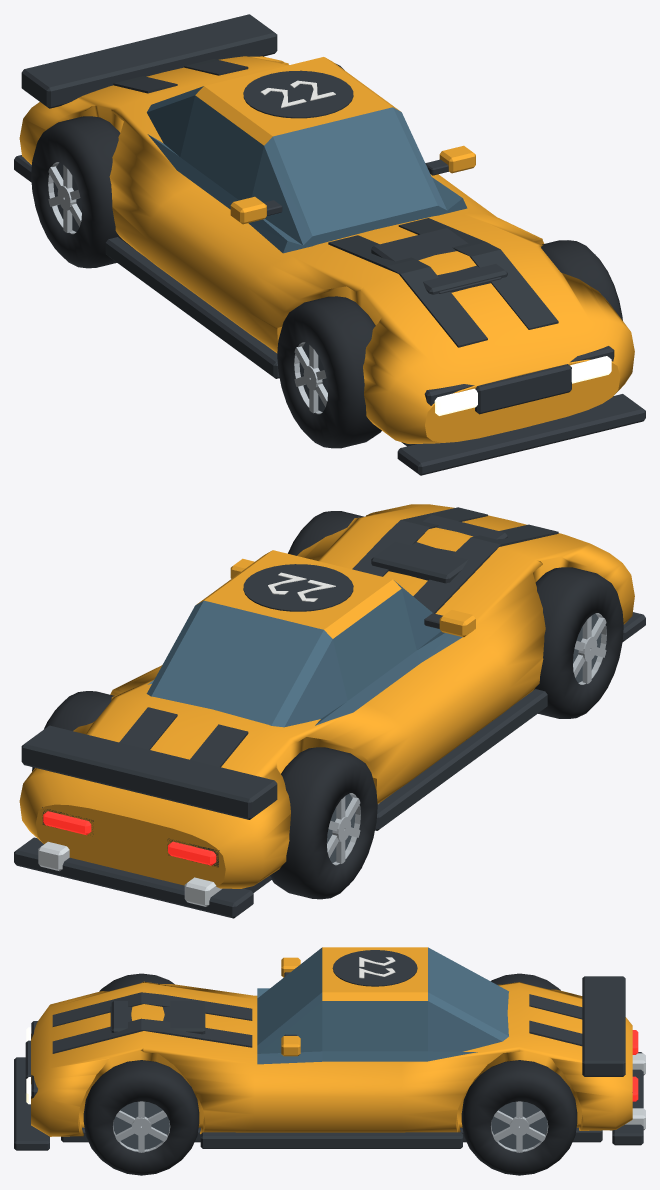
File: r2-car-muscle.glb
The picture shows the model from 3 angles, top to bottom: view 1: azimuth 30°, elevation 25°; view 2: azimuth 150°, elevation 25°; view 3: azimuth 270°, elevation 25°; orthographic projection. The views are drawn at different scales.
Parts seen in each view (by area): view 1: r2-car-muscle-moulded-body, r2-car-muscle-greenhouse, wheel-front-left, wheel-rear-left, r2-car-muscle-rear-ducktail, r2-car-muscle-front-splitter, r2-car-muscle-side-sill--1, r2-car-muscle-hood-stripe-0, r2-car-muscle-roof-number-roundel, r2-car-muscle-hood-stripe-1, r2-car-muscle-hood-scoop, r2-car-muscle-grille (+6 smaller); view 2: r2-car-muscle-moulded-body, r2-car-muscle-greenhouse, wheel-rear-left, r2-car-muscle-rear-ducktail, wheel-front-left, r2-car-muscle-rear-diffuser, r2-car-muscle-side-sill--1, r2-car-muscle-roof-number-roundel, r2-car-muscle-hood-scoop, r2-car-muscle-hood-stripe-0, r2-car-muscle-hood-stripe-1, wheel-rear-right (+9 smaller); view 3: r2-car-muscle-moulded-body, r2-car-muscle-greenhouse, wheel-front-right, wheel-rear-right, r2-car-muscle-side-sill-1, r2-car-muscle-rear-ducktail, r2-car-muscle-hood-stripe-1, r2-car-muscle-roof-number-roundel, r2-car-muscle-hood-stripe-0, r2-car-muscle-hood-scoop, r2-car-muscle-front-splitter, r2-car-muscle-rear-diffuser (+7 smaller).
Part boxes in pixels (<box>): r2-car-muscle-moulded-body: <box>19,56,634,443</box>; r2-car-muscle-greenhouse: <box>147,57,467,253</box>; wheel-front-left: <box>277,296,381,448</box>; wheel-rear-left: <box>31,116,133,268</box>; r2-car-muscle-rear-ducktail: <box>21,14,277,108</box>; r2-car-muscle-front-splitter: <box>397,394,645,475</box>; r2-car-muscle-side-sill--1: <box>105,237,279,378</box>; r2-car-muscle-hood-stripe-0: <box>328,235,487,347</box>; r2-car-muscle-roof-number-roundel: <box>243,70,353,118</box>; r2-car-muscle-hood-stripe-1: <box>398,218,558,329</box>; r2-car-muscle-hood-scoop: <box>371,228,507,294</box>; r2-car-muscle-grille: <box>475,364,571,414</box>; r2-car-muscle-moulded-body: <box>19,504,634,888</box>; r2-car-muscle-greenhouse: <box>146,550,462,727</box>; wheel-rear-left: <box>270,747,377,899</box>; r2-car-muscle-rear-ducktail: <box>21,725,277,819</box>; wheel-front-left: <box>534,567,623,718</box>; r2-car-muscle-rear-diffuser: <box>14,837,253,918</box>; r2-car-muscle-side-sill--1: <box>375,689,547,830</box>; r2-car-muscle-roof-number-roundel: <box>243,564,353,611</box>; r2-car-muscle-hood-scoop: <box>371,515,507,583</box>; r2-car-muscle-hood-stripe-0: <box>413,524,558,613</box>; r2-car-muscle-hood-stripe-1: <box>352,507,487,576</box>; wheel-rear-right: <box>32,691,114,771</box>; r2-car-muscle-moulded-body: <box>31,981,632,1136</box>; r2-car-muscle-greenhouse: <box>257,947,508,1064</box>; wheel-front-right: <box>83,1060,199,1175</box>; wheel-rear-right: <box>461,1060,577,1175</box>; r2-car-muscle-side-sill-1: <box>200,1132,462,1148</box>; r2-car-muscle-rear-ducktail: <box>582,976,625,1076</box>; r2-car-muscle-hood-stripe-1: <box>52,1018,252,1053</box>; r2-car-muscle-roof-number-roundel: <box>332,950,417,986</box>; r2-car-muscle-hood-stripe-0: <box>52,992,252,1026</box>; r2-car-muscle-hood-scoop: <box>111,1001,205,1034</box>; r2-car-muscle-front-splitter: <box>14,1057,49,1150</box>; r2-car-muscle-rear-diffuser: <box>612,1052,643,1145</box>.
Size of the model in its own units: 1.04 by 0.7315 by 2.62.
